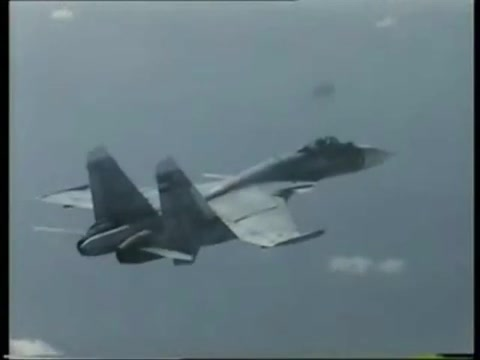aeroplane: (32, 135, 404, 268)
